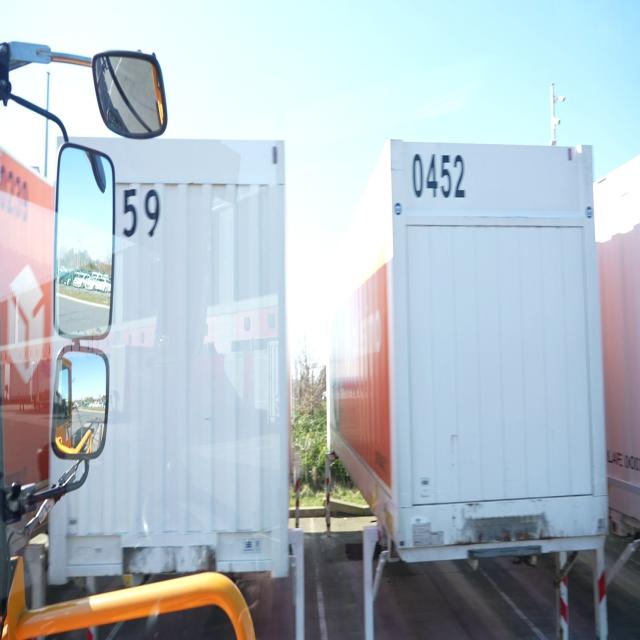Code: (410, 148, 470, 202)
